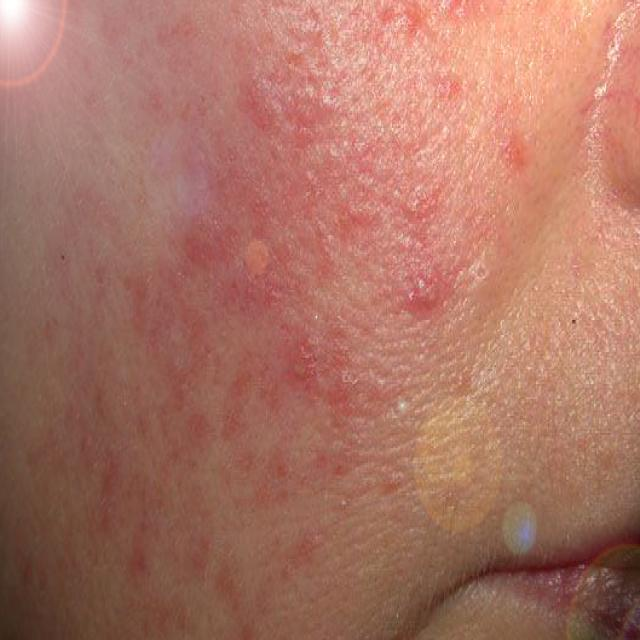Rosacea: (176, 54, 436, 448)
